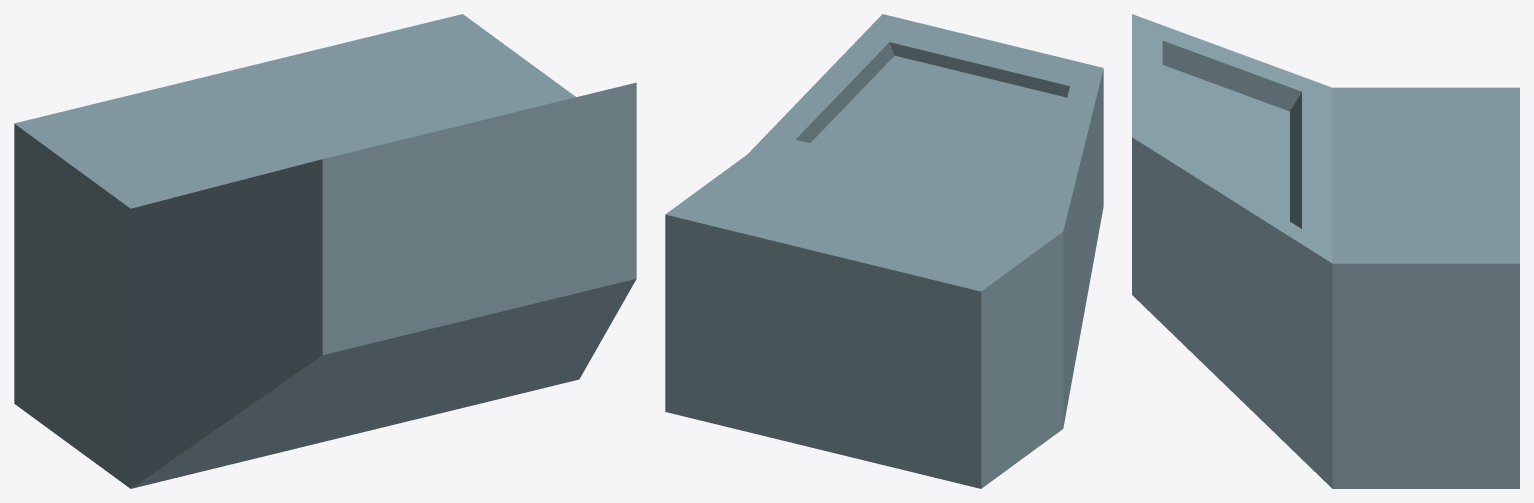
Rendered from WallLight00.fbx.
3 renders of one model, left to right at view 1: azimuth 30°, elevation 25°; view 2: azimuth 150°, elevation 25°; view 3: azimuth 270°, elevation 25°, orthographic. The views are drawn at different scales.
Parts seen in each view (by area): view 1: WallLight00; view 2: WallLight00; view 3: WallLight00.
Boxes of the visible parts, <box> form: WallLight00: <box>14,14,636,488</box>; WallLight00: <box>665,14,1103,488</box>; WallLight00: <box>1132,14,1519,488</box>.
Bounding box in the file's own units: 15 × 12.93 × 13.97.
